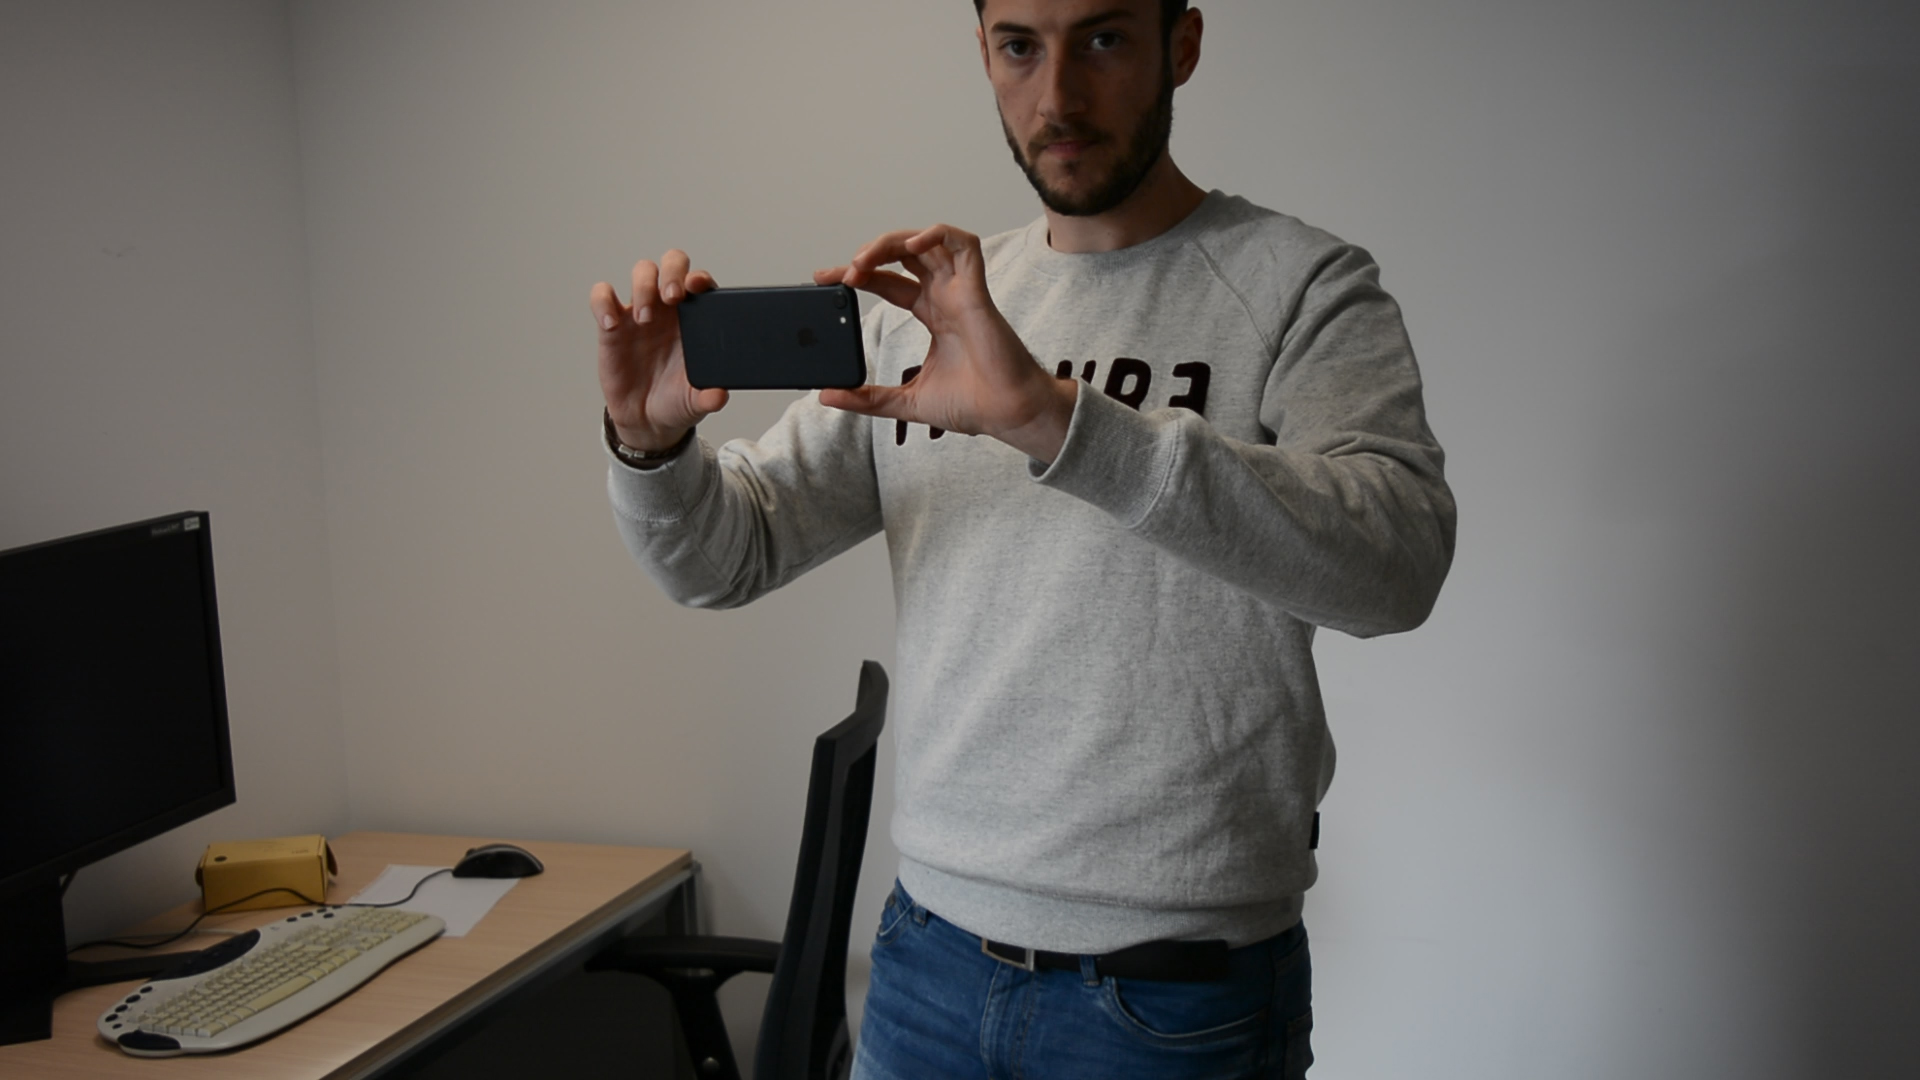smartphone: (674, 281, 870, 393)
